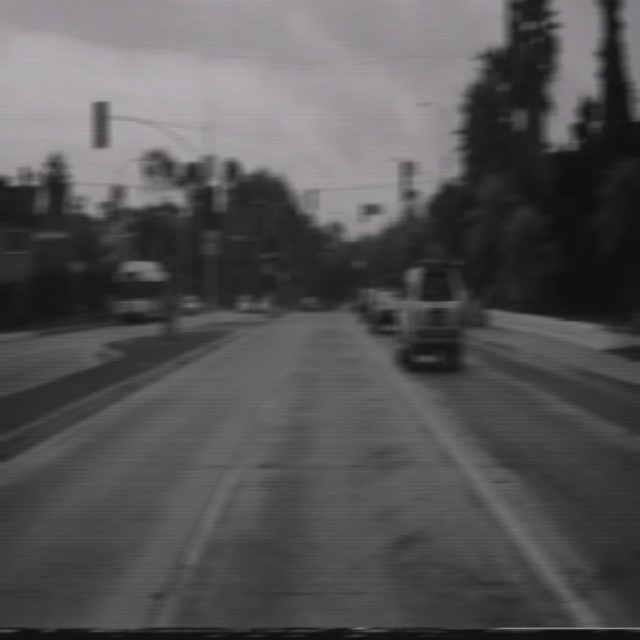noLeftTurn: (203, 230, 219, 258)
